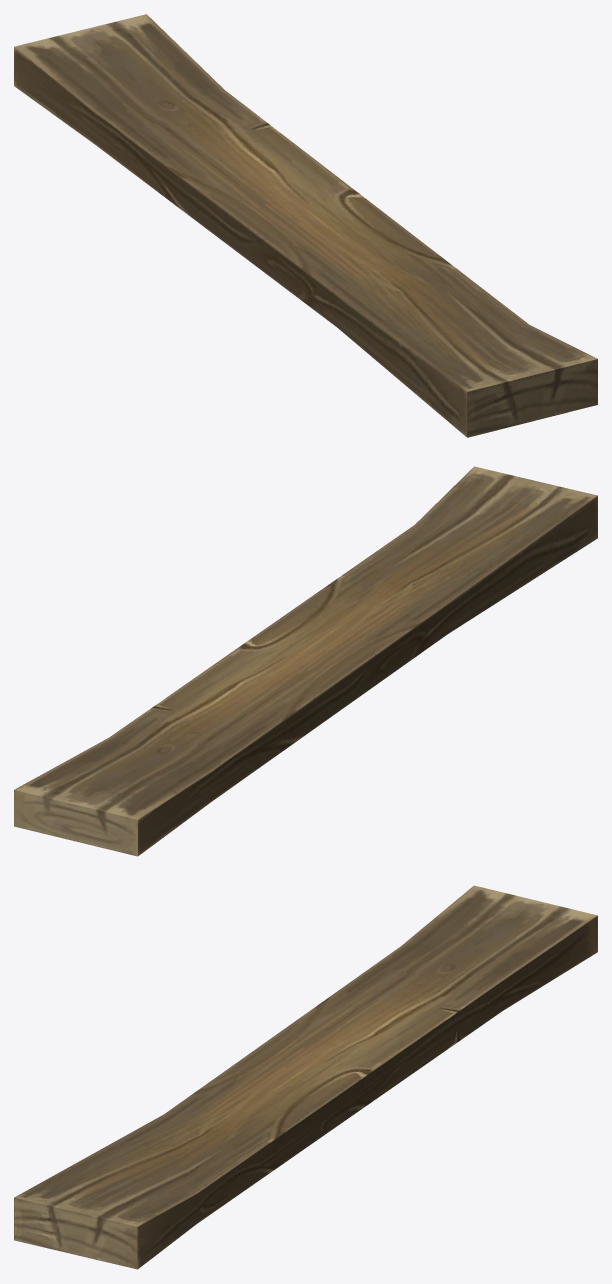
The model's file is krasaranglumberplank.obj.
3 renders of one model, top to bottom at view 1: azimuth 30°, elevation 25°; view 2: azimuth 150°, elevation 25°; view 3: azimuth 330°, elevation 25°, orthographic. The views are drawn at different scales.
Visible parts, largest first — view 1: Geoset_000; view 2: Geoset_000; view 3: Geoset_000.
Boxes of the visible parts, x1,y1,x2,y2 form: Geoset_000: (14,14,597,437); Geoset_000: (14,466,597,856); Geoset_000: (14,885,597,1269).
Size of the model in its own units: 0.619 by 0.1771 by 3.32.
